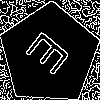E: (24, 29, 78, 83)
